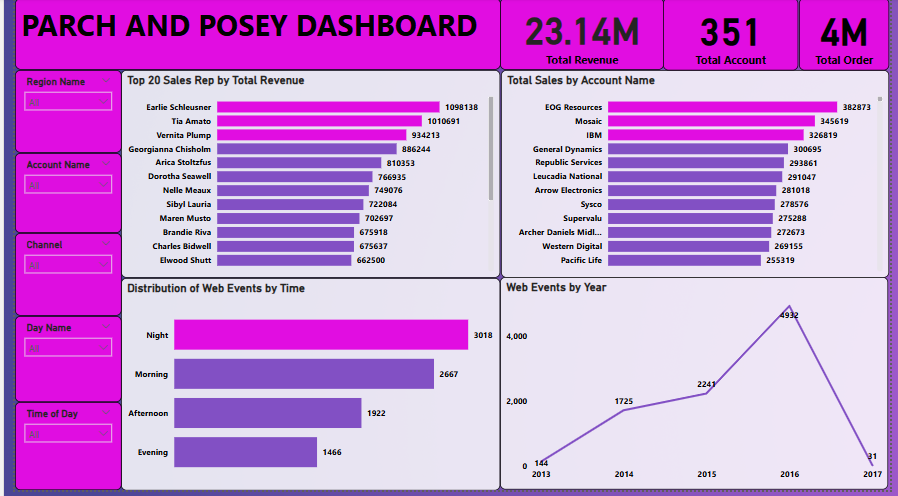

Layout of this report page (visuals, bound fields, positions):
{"tool":"powerbi","page":{"name":"Page 1","canvas":[1280,720],"ordinal":0},"visuals":[{"type":"barChart","title":"Top 20 Sales Rep by Total Revenue","fields":{"Category":["public sales_reps.name"],"Y":["public orders.Total Revenue"]},"box":[155.4,105.2,555.4,304.4],"z":0},{"type":"clusteredBarChart","title":"Total Sales by Account Name","fields":{"Category":["public accounts.name"],"Y":["public orders.Total Revenue"]},"box":[710.8,105.2,568.3,304.4],"z":1000},{"type":"lineChart","title":"Web Events  by Year","fields":{"Y":["CountNonNull(public web_events.id)"],"Category":["public web_events.occurred_at.Variation.Date Hierarchy.Year"]},"box":[710,409,568,311],"z":2000},{"type":"clusteredBarChart","title":"Distribution of Web Events by Time ","fields":{"Y":["public web_events.Web Interactions"],"Category":["public web_events.Time of Day"]},"box":[155.4,409.7,555.4,310.9],"z":3000},{"type":"slicer","fields":{"Values":["public region.name"]},"box":[0,106,156,121.1],"z":4000},{"type":"slicer","fields":{"Values":["public accounts.name"]},"box":[0,227.1,156,116.6],"z":5000},{"type":"card","fields":{"Values":["public orders.Total Revenue"]},"box":[709.7,0,239.6,105.5],"z":6000},{"type":"card","fields":{"Values":["public orders.Total Order"]},"box":[1147.1,0,132.3,105.8],"z":7000},{"type":"card","fields":{"Values":["public accounts.Total Account"]},"box":[948.7,0,198.4,105.8],"z":8000},{"type":"slicer","fields":{"Values":["public web_events.channel"]},"box":[0,343.7,156,121.1],"z":9000},{"type":"textbox","box":[0,0,711.2,105.4],"z":10000},{"type":"slicer","fields":{"Values":["public web_events.Day Name"]},"box":[0,464.9,156,125.7],"z":11000},{"type":"slicer","fields":{"Values":["public web_events.Time of Day"]},"box":[0,590.5,156,128.7],"z":12000}]}

Visuals, with their boxes in screenshot pixels (x1, y1, x2, y2), scaled from the page's 1280x720 canvas onto the 898x496 screenshot:
"Top 20 Sales Rep by Total Revenue" barChart: <bbox>109, 72, 499, 282</bbox>
"Total Sales by Account Name" clusteredBarChart: <bbox>499, 72, 897, 282</bbox>
"Web Events  by Year" lineChart: <bbox>498, 282, 897, 495</bbox>
"Distribution of Web Events by Time " clusteredBarChart: <bbox>109, 282, 499, 495</bbox>
slicer - public region.name: <bbox>0, 73, 109, 156</bbox>
slicer - public accounts.name: <bbox>0, 156, 109, 237</bbox>
card - public orders.Total Revenue: <bbox>498, 0, 666, 73</bbox>
card - public orders.Total Order: <bbox>805, 0, 897, 73</bbox>
card - public accounts.Total Account: <bbox>666, 0, 805, 73</bbox>
slicer - public web_events.channel: <bbox>0, 237, 109, 320</bbox>
textbox: <bbox>0, 0, 499, 73</bbox>
slicer - public web_events.Day Name: <bbox>0, 320, 109, 407</bbox>
slicer - public web_events.Time of Day: <bbox>0, 407, 109, 495</bbox>
